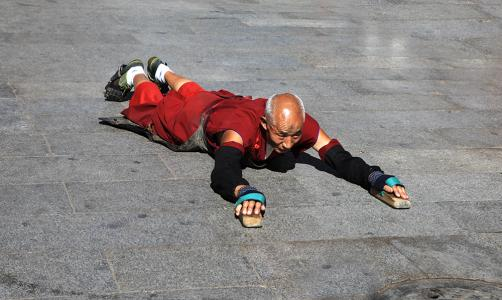down: (95, 53, 417, 232)
